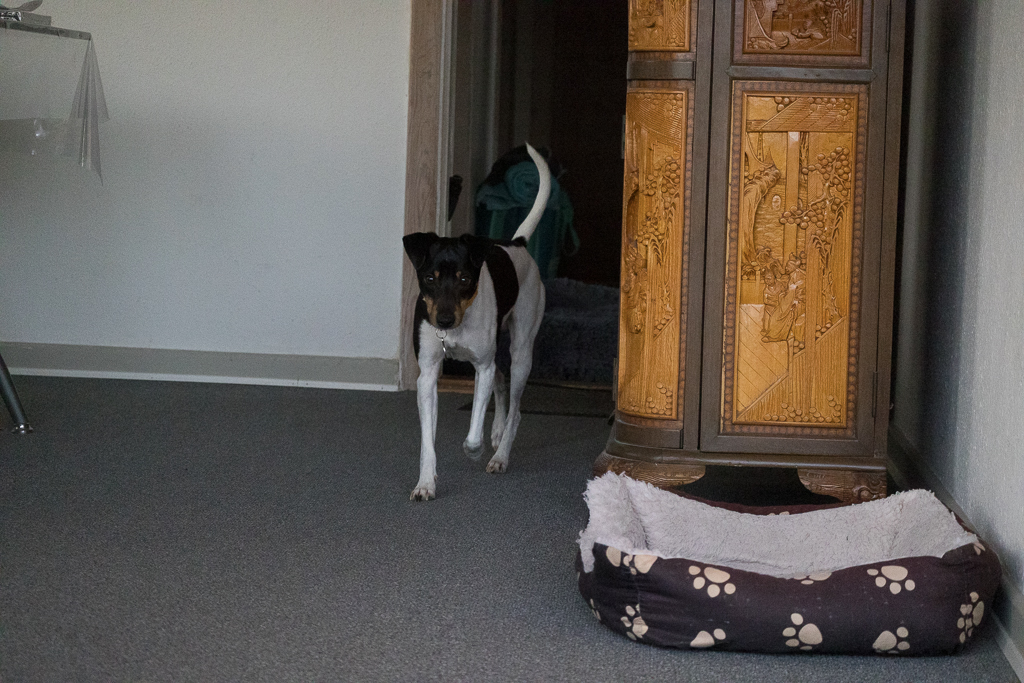Dog: (388, 125, 565, 507)
